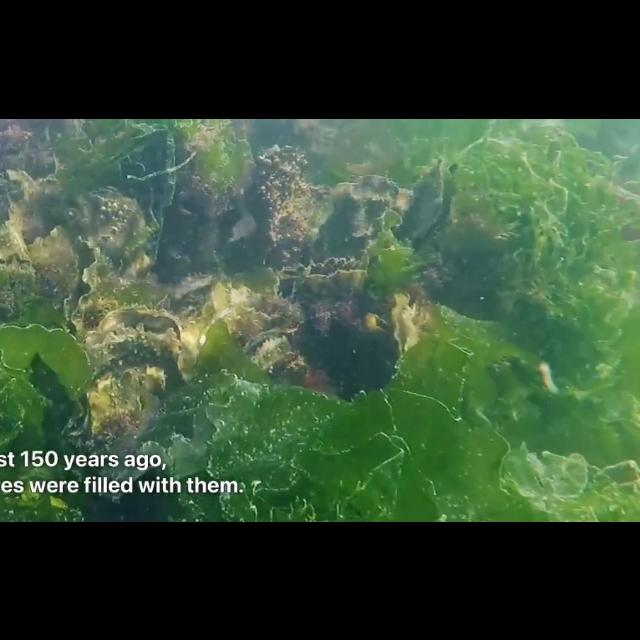Oyster-Closed: (318, 168, 414, 255), (71, 180, 153, 280), (245, 140, 313, 252)
Oyster-Open: (85, 297, 189, 427), (8, 168, 82, 286), (192, 273, 302, 345), (63, 228, 127, 334), (396, 152, 458, 250), (275, 250, 367, 296), (240, 319, 306, 371), (0, 221, 40, 273), (389, 286, 419, 346), (351, 303, 389, 333)
